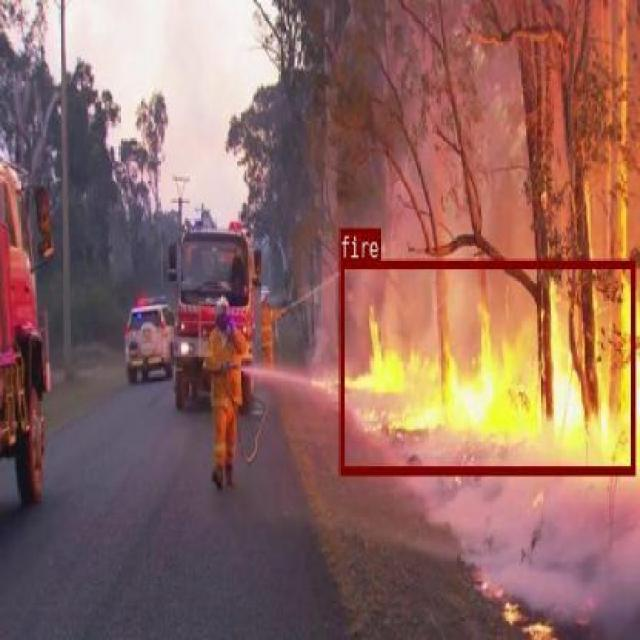Fire: (338, 259, 636, 473)
Smoke: (468, 492, 618, 622)
